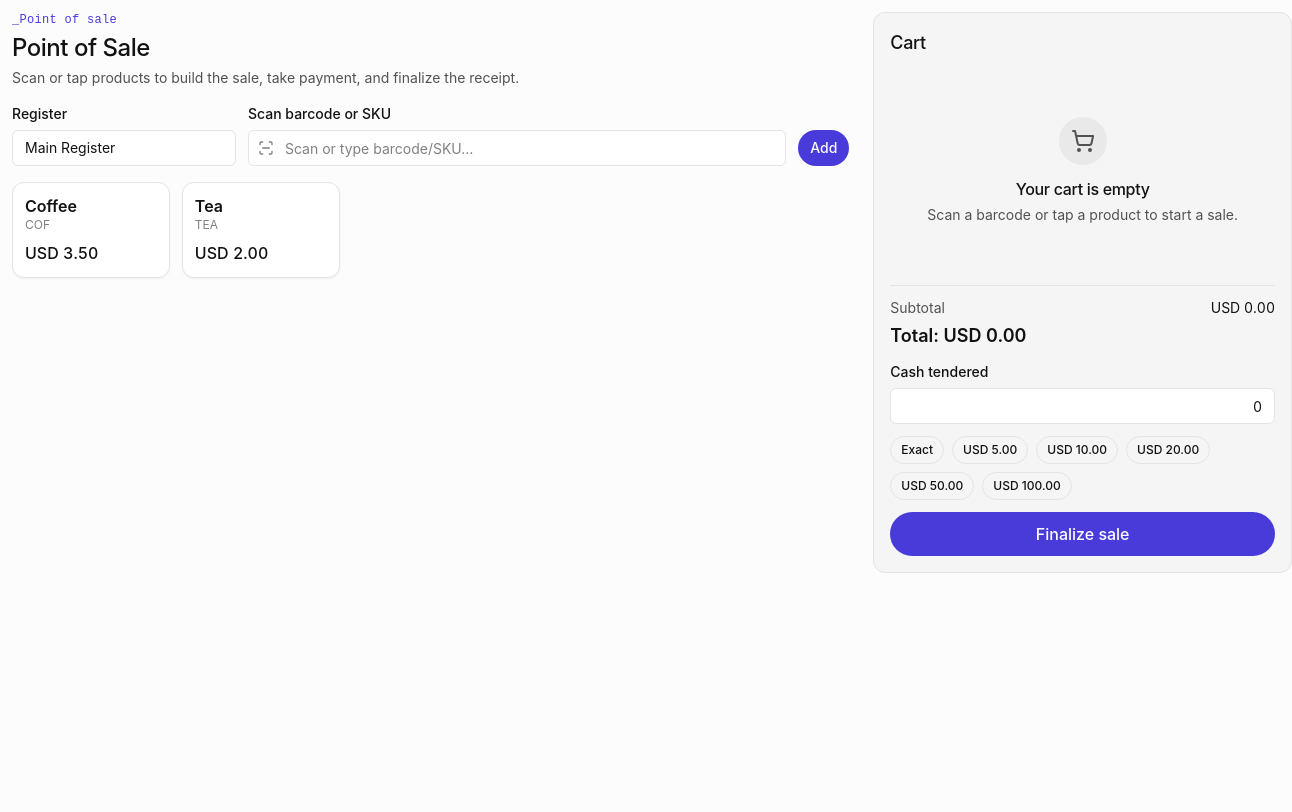
Test: POSPage › rings an item by barcode and reports an unknown code
The image size is (1292, 812).
Expected: the button "Coffee COF USD 3.50" is shown, [12,182,170,278]
Type "222" into the field with placeholder "Scan or type barcode/SKU…" at coordinates (517, 148), box [248,130,786,166]
Then press Enter
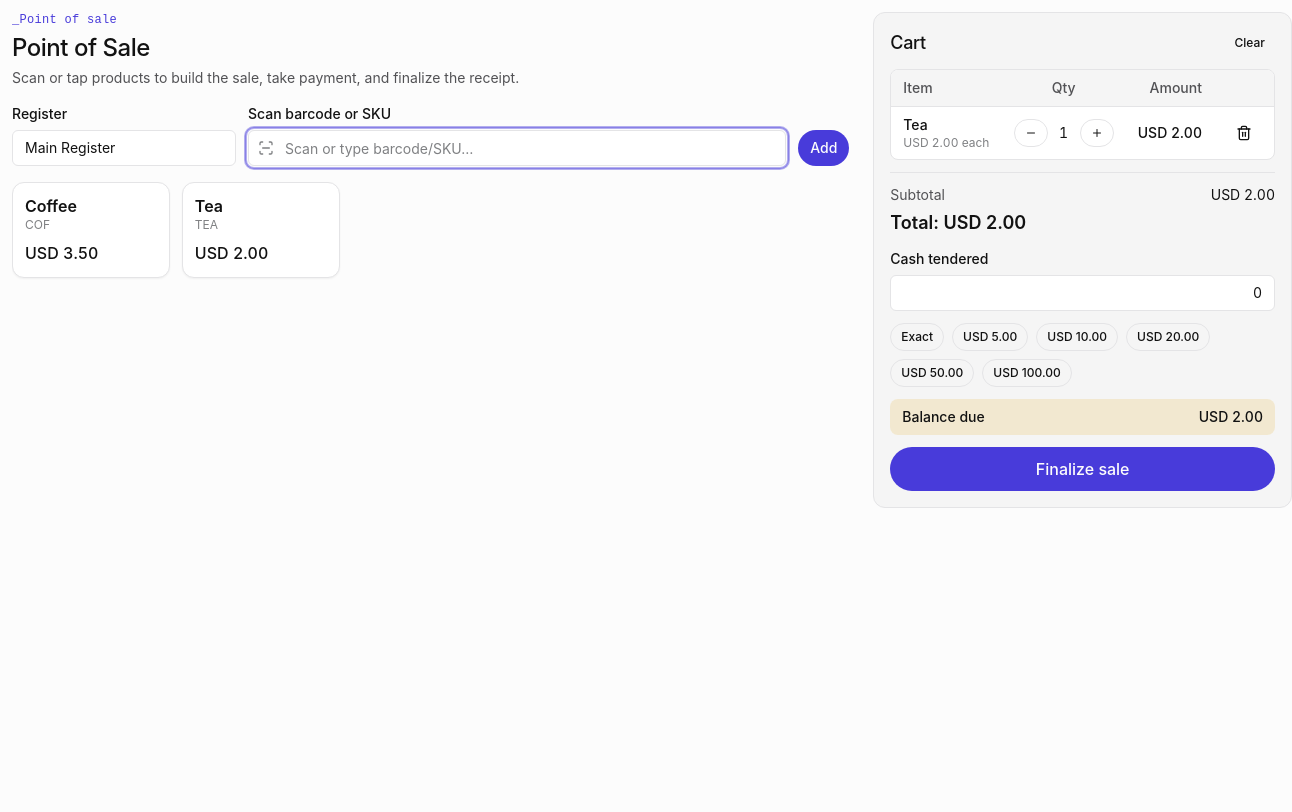
Expected: the text "Total: USD 2.00" is shown, [890,212,1026,232]
Type "999" into the field with placeholder "Scan or type barcode/SKU…" at coordinates (517, 148), box [248,130,786,166]
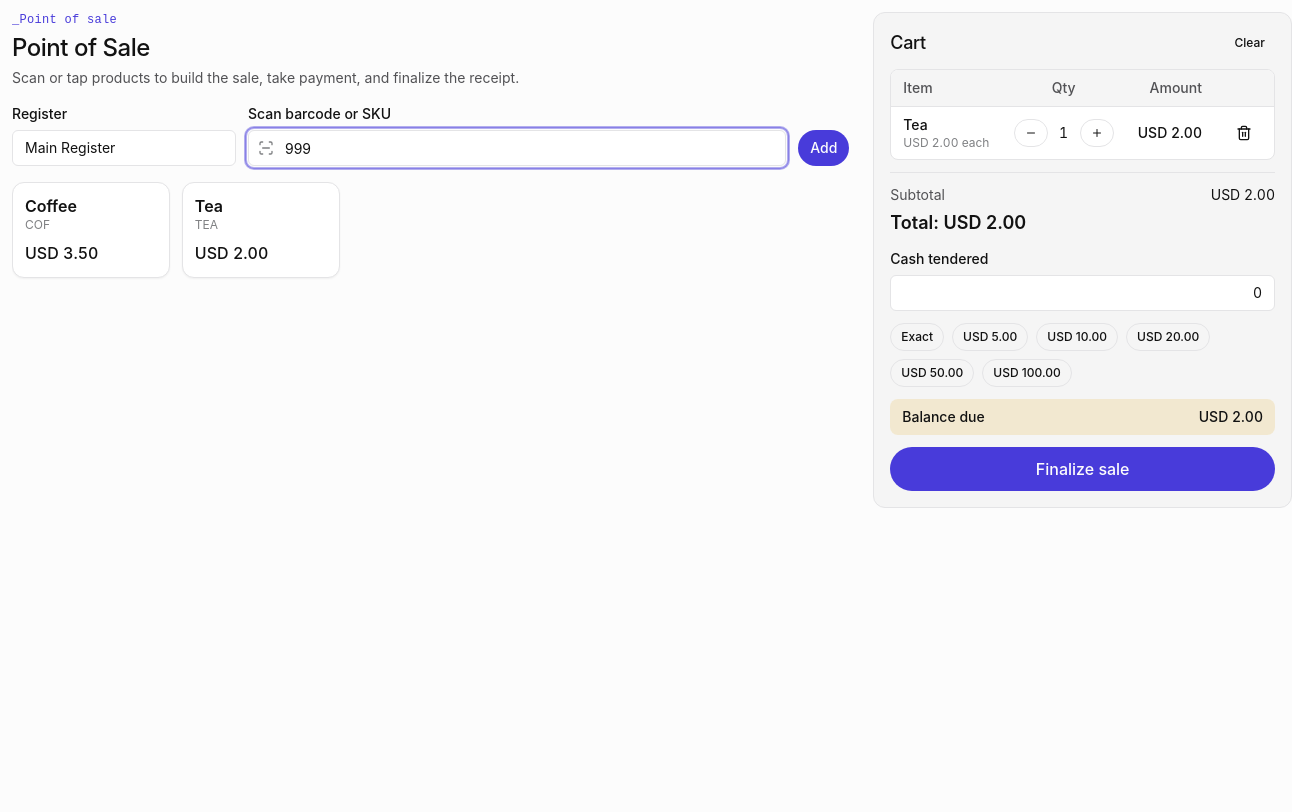
Click the button "Add" at coordinates (824, 148), box [798,130,849,166]
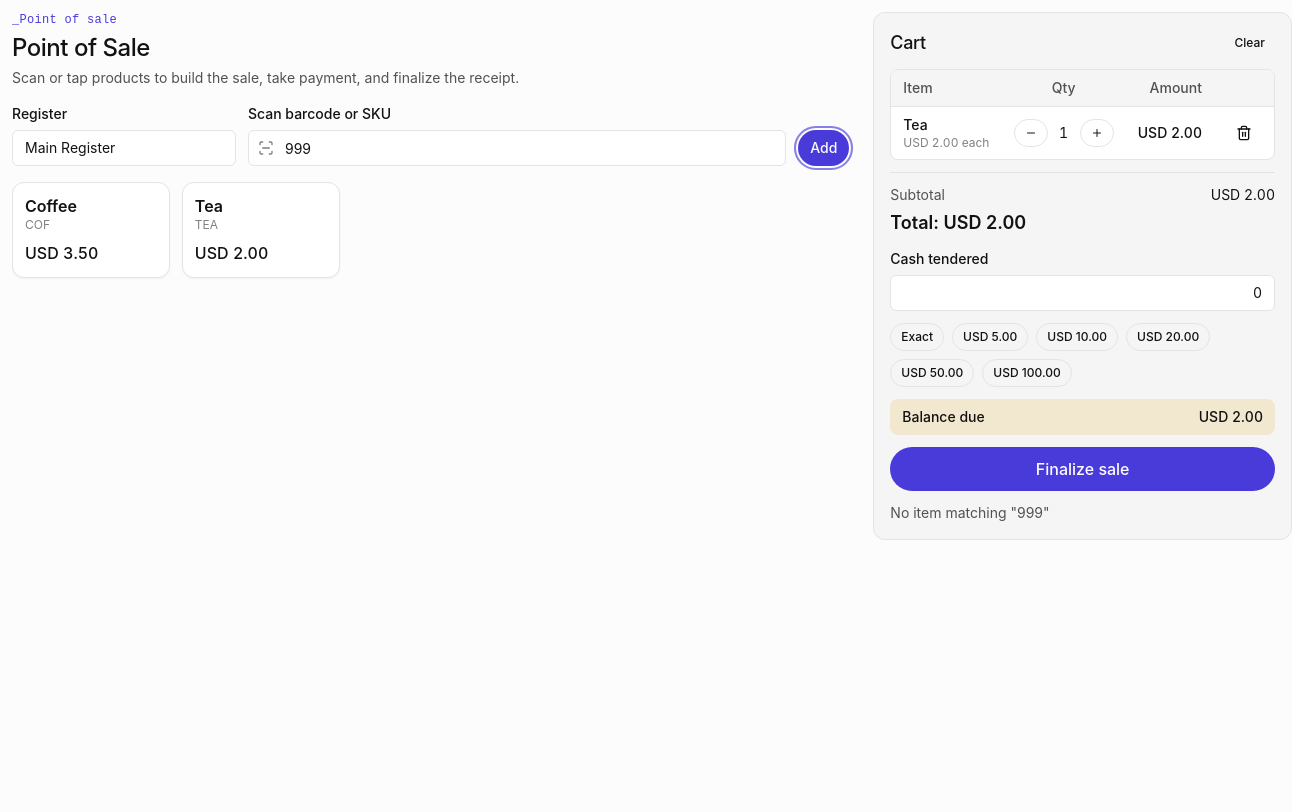
Expected: the text "No item matching \"999\"" is shown, [890,504,1050,520]
